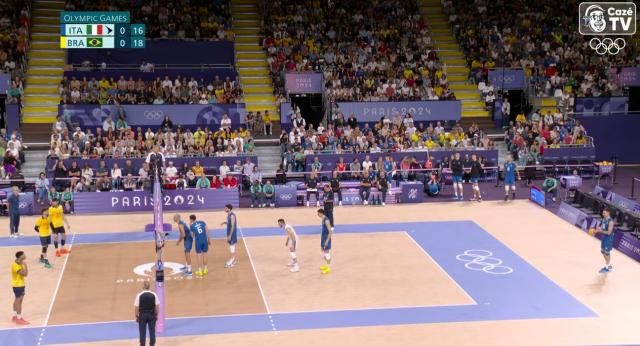Levantador: (33, 208, 55, 270), (189, 215, 211, 277)
Libero: (278, 219, 300, 273)
bola: (588, 226, 596, 238)
